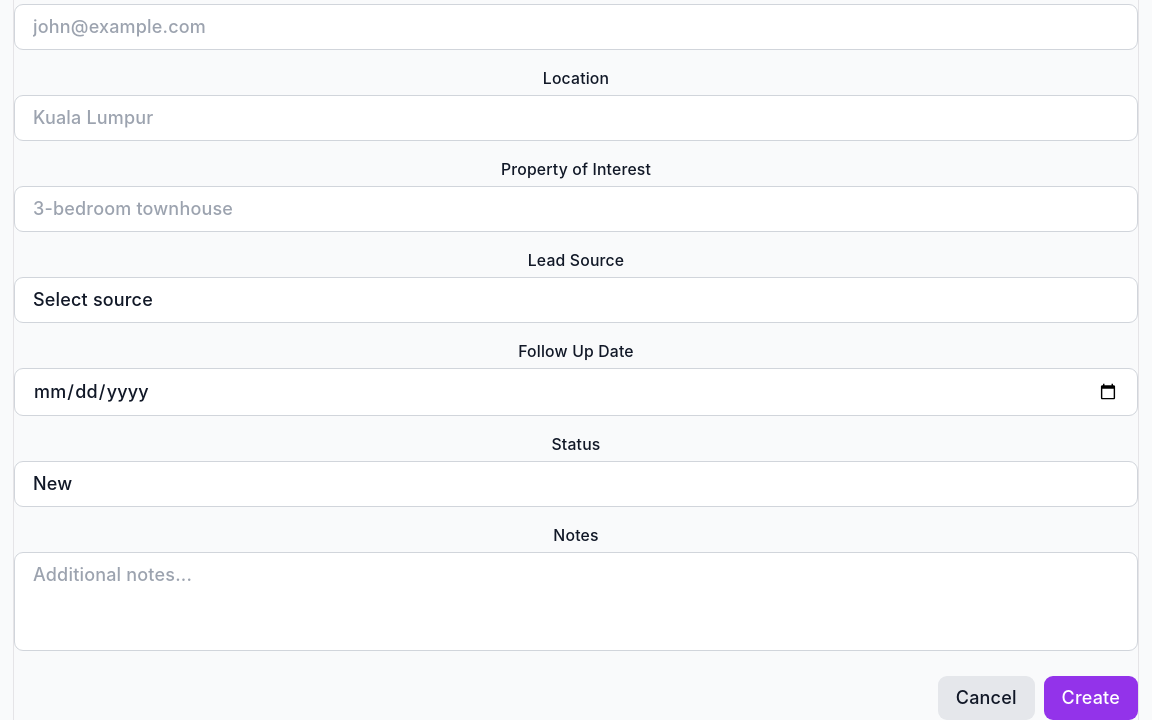
Test case: BuyerForm › shows validation error when name is empty on submit
The width and height of the screenshot is (1152, 720).
(page scrolled)
Step 1. Click the button "Create" → (1091, 698), box x1=1044 y1=676 x2=1138 y2=719
(page scrolled)
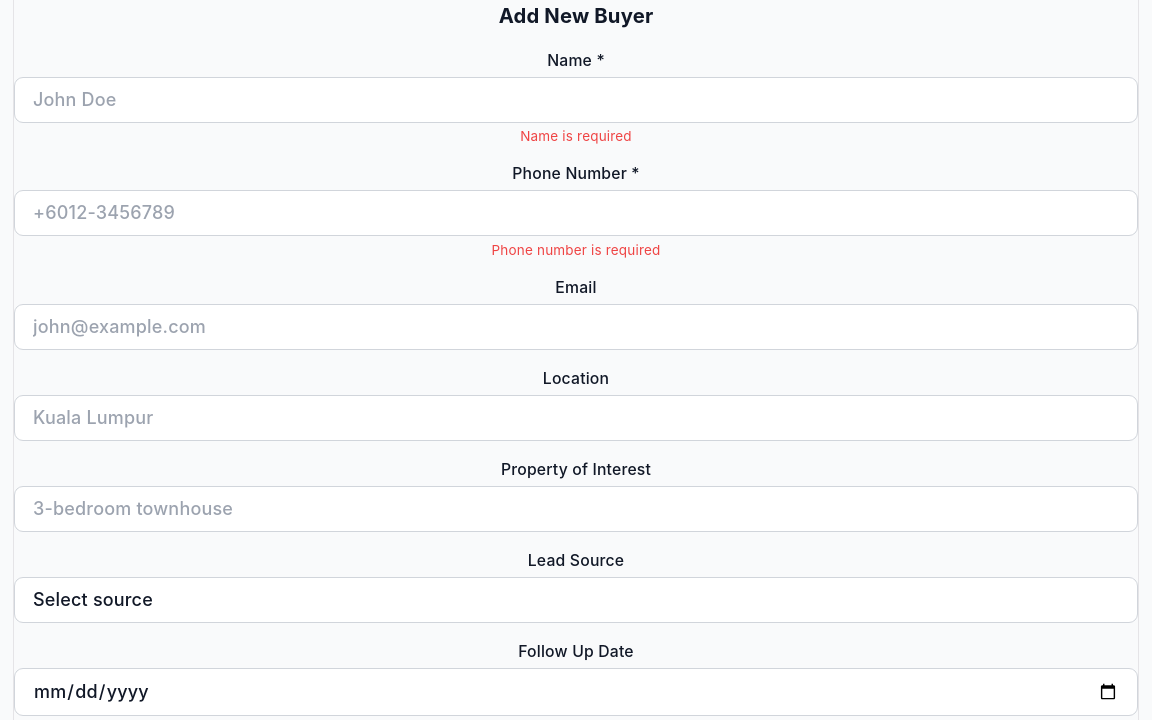
Check: the text "Name is required" is shown, box x1=520 y1=128 x2=632 y2=144
